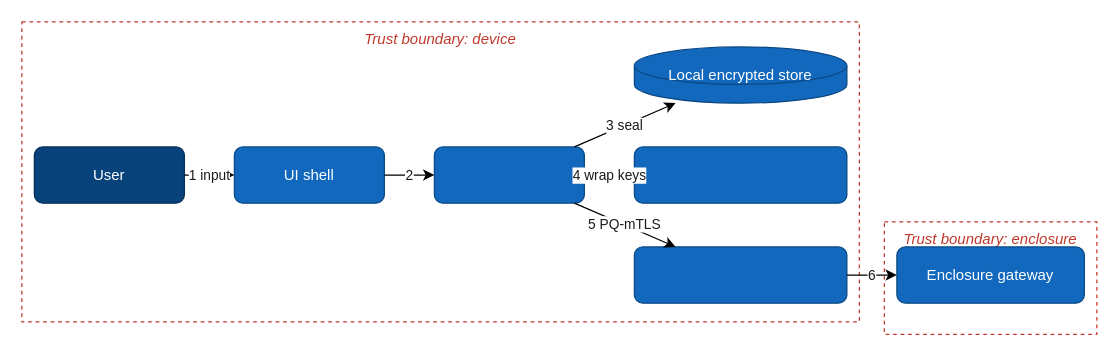
The diagram is 1119 pixels wide and 356 high, and some of its shapes have lost their labels. The shapes that lost their labels are listed below. From the top down, each one's centre as x and y in pixels, then its label:
point 508,174: Rust core
point 740,174: Device keystore
point 740,274: PQ-mTLS channel
